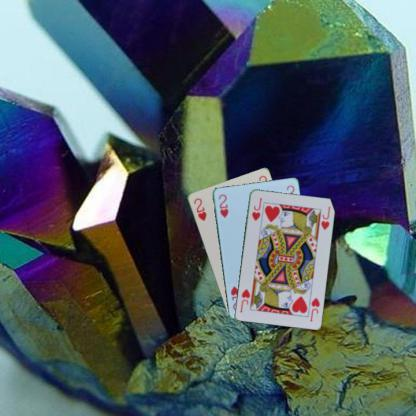2h: (192, 195, 208, 222), (216, 191, 229, 219)
Jh: (249, 195, 263, 222), (307, 295, 321, 322)
